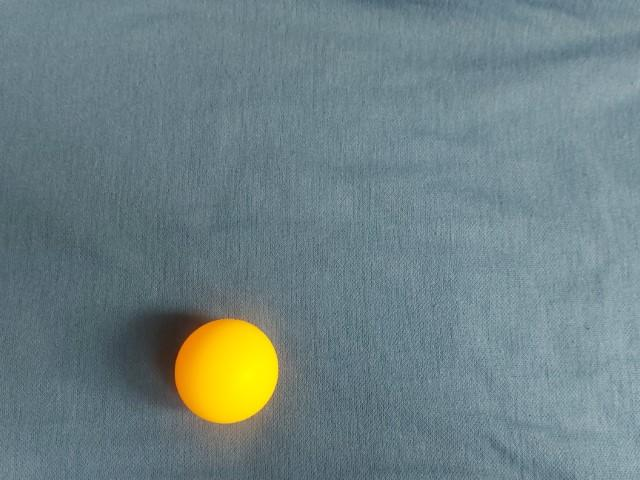oball: (355, 54, 471, 169)
